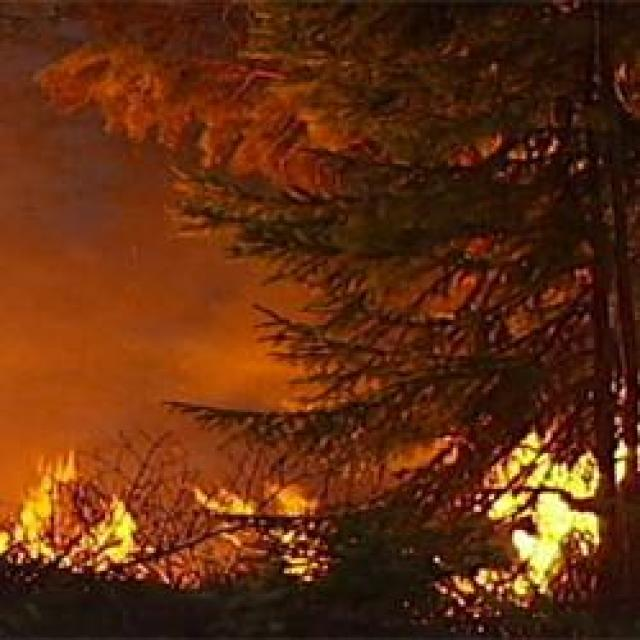fire: (480, 438, 596, 598), (5, 456, 136, 578), (179, 480, 331, 582)
